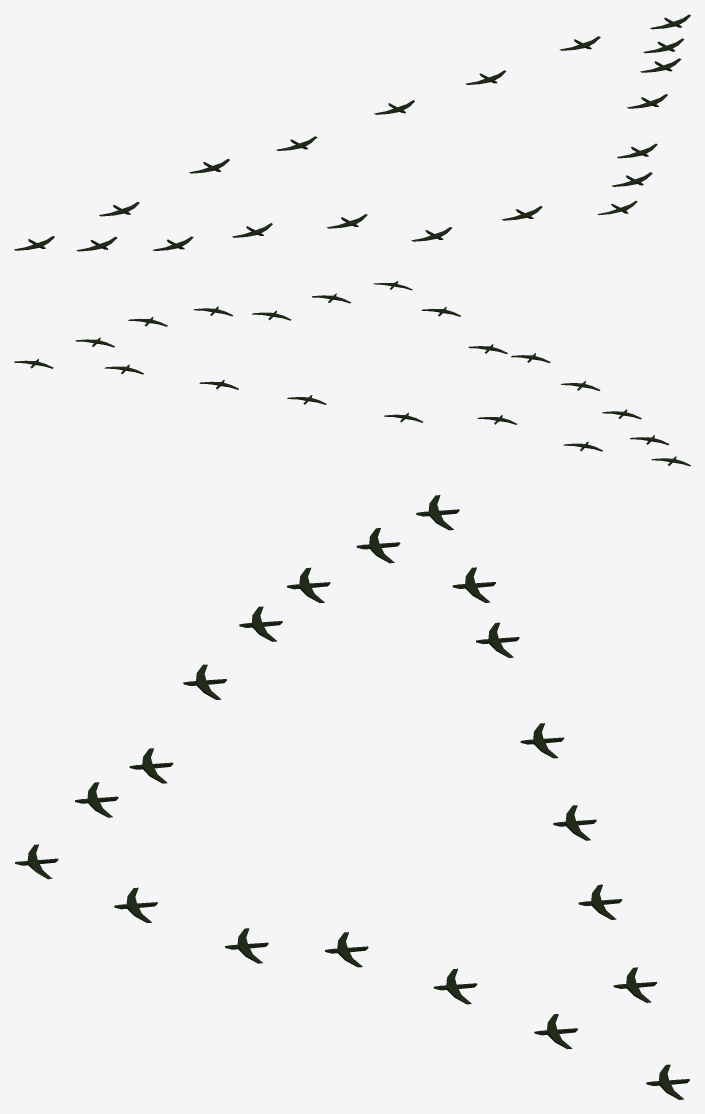
The model's file is birds.fbx.
The picture shows the model from 3 angles, top to bottom: view 1: azimuth 30°, elevation 25°; view 2: azimuth 150°, elevation 25°; view 3: azimuth 270°, elevation 25°; orthographic projection. The views are drawn at different scales.
Parts seen in each view (by area): view 1: Cube.027; view 2: Cube.027; view 3: Cube.027.
Boxes of the visible parts, left/top/right/bottom form: Cube.027: left=14, top=14, right=690, bottom=251; Cube.027: left=14, top=281, right=690, bottom=466; Cube.027: left=15, top=495, right=689, bottom=1099.
Size of the model in its own units: 9252 by 289 by 4394.
